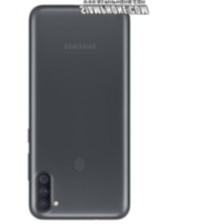phone: (22, 0, 134, 222)
